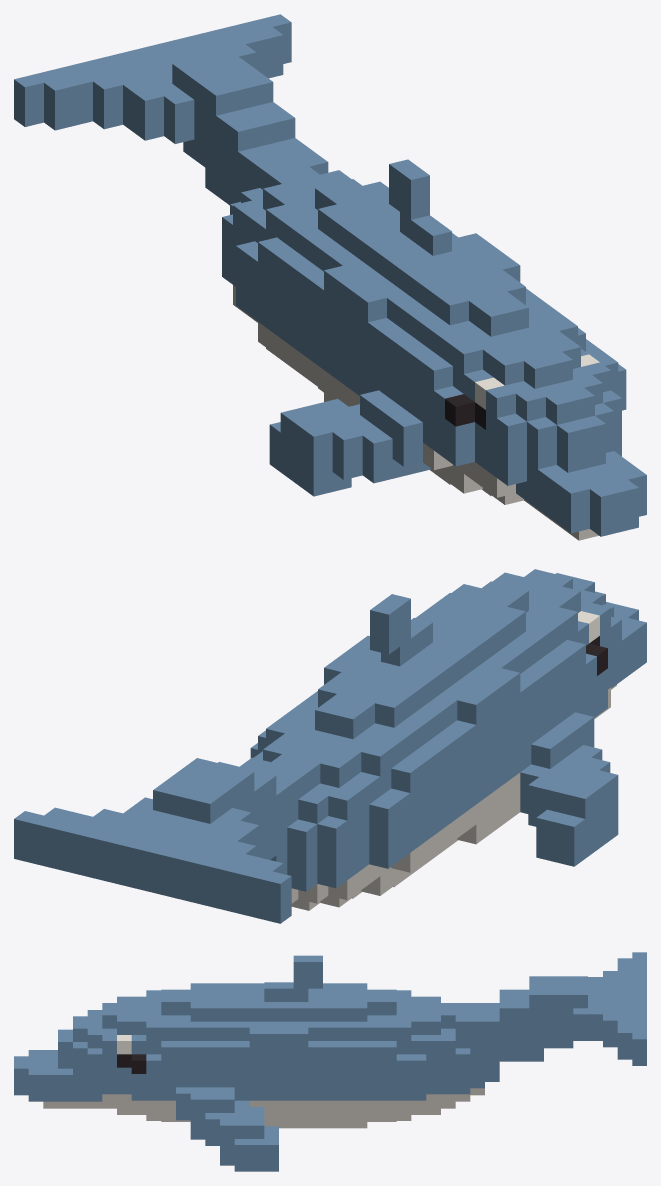
Rendered from dolphin.glb.
3 renders of one model, top to bottom at view 1: azimuth 30°, elevation 25°; view 2: azimuth 150°, elevation 25°; view 3: azimuth 270°, elevation 25°, orthographic. The views are drawn at different scales.
Visible parts, largest first — view 1: dolphin__body, dolphin__head, dolphin__tail, dolphin__fin_r, dolphin__fin_l; view 2: dolphin__body, dolphin__tail, dolphin__head, dolphin__fin_r; view 3: dolphin__body, dolphin__head, dolphin__tail, dolphin__fin_l.
Part boxes in pixels (x1,y1,x2,y2): dolphin__body: (222, 159, 533, 476); dolphin__head: (401, 279, 646, 540); dolphin__tail: (14, 14, 328, 205); dolphin__fin_r: (269, 390, 430, 496); dolphin__fin_l: (586, 339, 626, 410); dolphin__body: (254, 594, 553, 910); dolphin__tail: (14, 757, 309, 923); dolphin__head: (439, 569, 646, 727); dolphin__fin_r: (520, 712, 618, 866); dolphin__body: (205, 955, 499, 1128); dolphin__head: (14, 983, 205, 1121); dolphin__tail: (441, 952, 646, 1074); dolphin__fin_l: (176, 1087, 278, 1171).
Bounding box in the file's own units: 1.7 × 1.2 × 4.3.
Materials: 1 (1 with a texture image).
